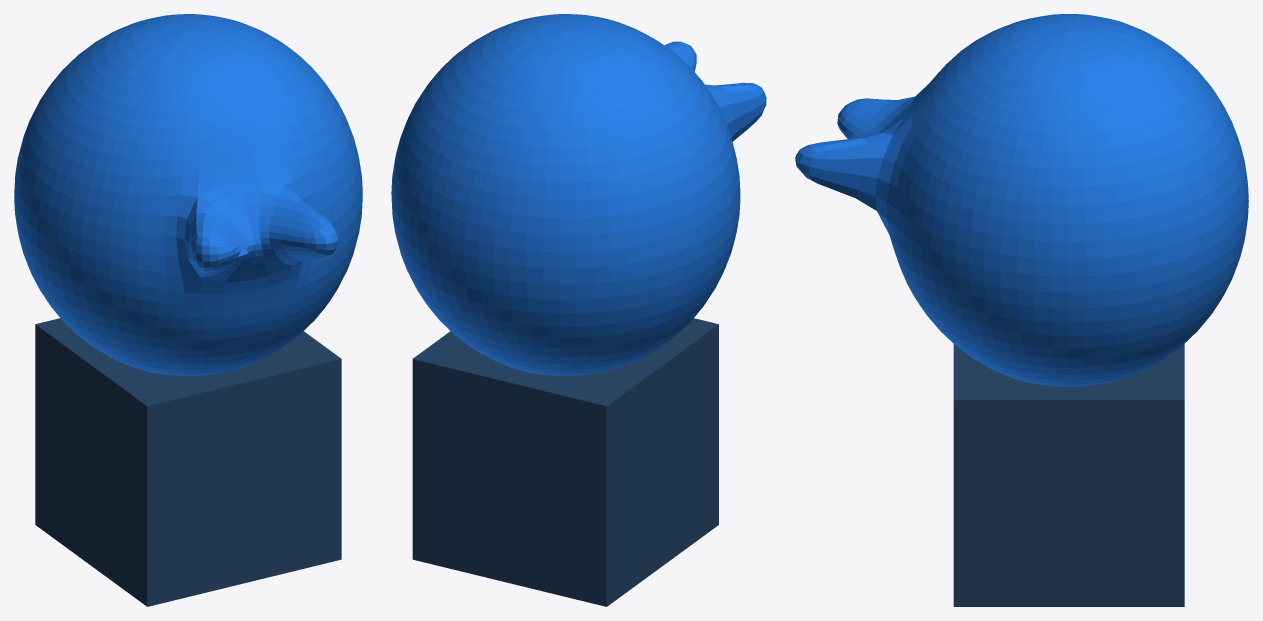
File: turret.fbx
3 views of the same model, side by side, from view 1: azimuth 30°, elevation 25°; view 2: azimuth 150°, elevation 25°; view 3: azimuth 270°, elevation 25° (orthographic). The views are drawn at different scales.
Visible parts, largest first — view 1: Sphere, Cube; view 2: Sphere, Cube; view 3: Sphere, Cube.
Boxes of the visible parts, x1,y1,x2,y2 form: Sphere: (14,14,362,375); Cube: (35,318,341,606); Sphere: (391,14,766,375); Cube: (412,318,718,606); Sphere: (795,14,1248,386); Cube: (953,344,1184,606).
Bounding box in the file's own units: 311 × 503 × 393.
